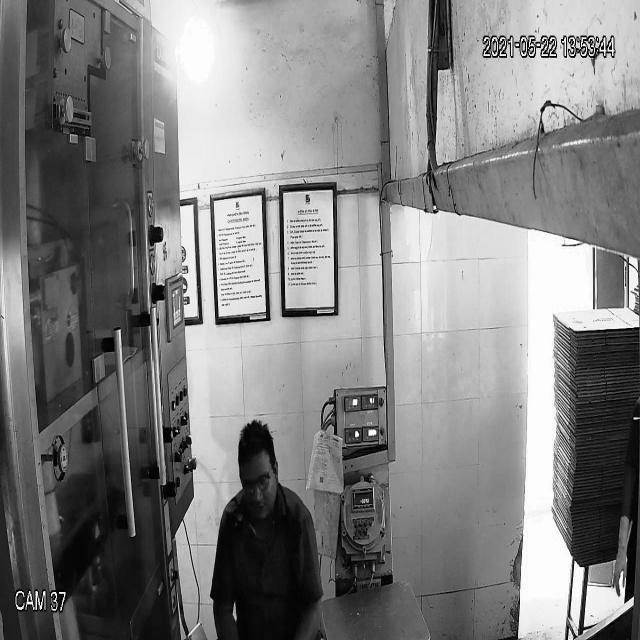Gafas: (235, 461, 280, 501)
